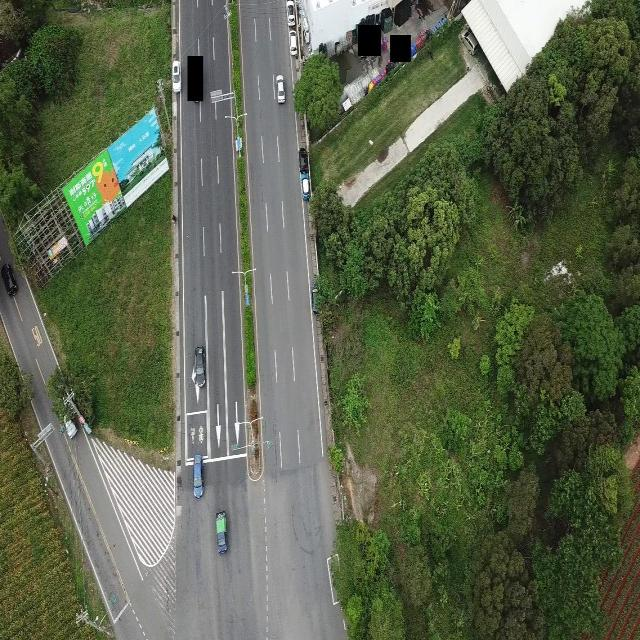car: (308, 0, 383, 233), (214, 510, 230, 554), (192, 345, 207, 389), (192, 456, 206, 498), (60, 406, 77, 440), (461, 30, 478, 56), (2, 263, 16, 294), (274, 73, 286, 103), (172, 61, 182, 92), (300, 171, 310, 201), (298, 147, 308, 174), (289, 28, 298, 57), (286, 2, 295, 27)
